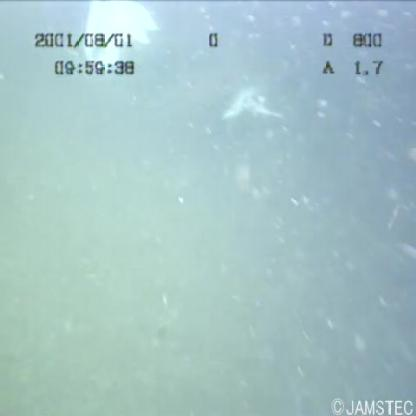Rác: (84, 1, 167, 76), (224, 84, 288, 122)
